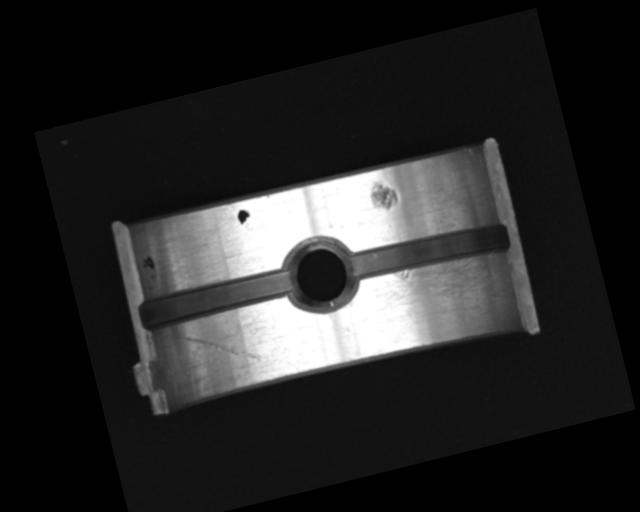blot: (140, 253, 159, 283), (234, 206, 252, 228)
bruise: (367, 178, 400, 213)
gap: (344, 214, 513, 290), (137, 263, 297, 332)
hole: (276, 230, 361, 321)
nick: (181, 318, 263, 380)
scratch: (352, 245, 514, 350)
